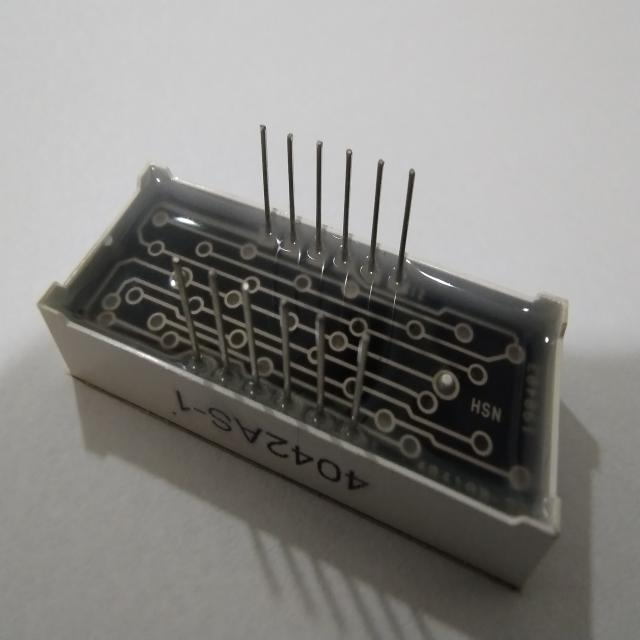7_segments_4_digits: (31, 108, 594, 599)
